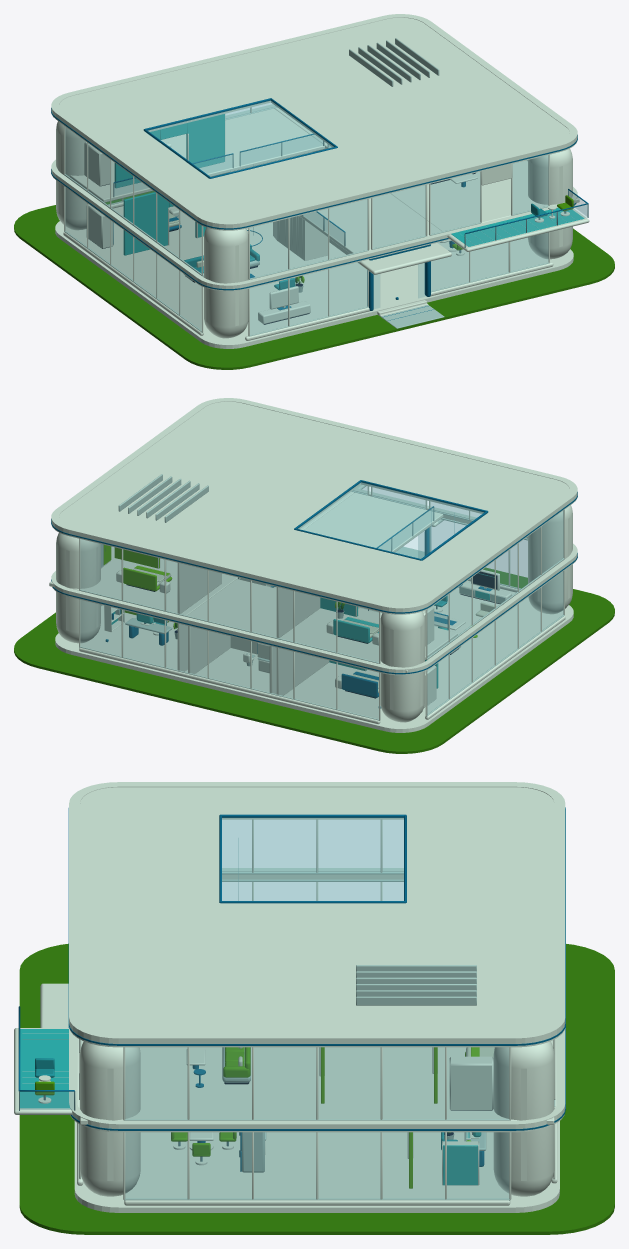
Rendered from AeroHouse.fbx.
3 views of the same model, one above another, from view 1: azimuth 30°, elevation 25°; view 2: azimuth 150°, elevation 25°; view 3: azimuth 270°, elevation 25° (orthographic). The views are drawn at different scales.
Parts seen in each view (by area): view 1: Aero_GroundFloor_Palette, Aero_RoofBack_Palette, Aero_RoofFront_Palette, Aero_Site_Palette, Aero_RoofRight_Palette, Aero_CornerShell_Palette, Aero_RoofRibbon_Palette, Aero_Skylight_Glass, Aero_WestU_Glass, Aero_FrontLeftU_Glass, Aero_WestG_Glass, Aero_UpperFloorRear_Palette (+29 smaller); view 2: Aero_RoofFront_Palette, Aero_RoofBack_Palette, Aero_GroundFloor_Palette, Aero_Site_Palette, Aero_RearU_Glass, Aero_RearG_Glass, Aero_RoofRight_Palette, Aero_CornerShell_Palette, Aero_RoofRibbon_Palette, Aero_Skylight_Glass, Aero_WestU_Glass, Aero_UpperFloorRear_Palette (+27 smaller); view 3: Aero_RoofFront_Palette, Aero_Site_Palette, Aero_RoofBack_Palette, Aero_EastU_Glass, Aero_EastG_Glass, Aero_GroundFloor_Palette, Aero_RoofRight_Palette, Aero_UpperFloorEast_Palette, Aero_CornerShell_Palette, Aero_Skylight_Glass, Aero_RoofRibbon_Palette, Aero_WestU_Glass (+21 smaller).
Part boxes in pixels (x1,y1,x2,y2): Aero_GroundFloor_Palette: (55, 206, 573, 348); Aero_RoofBack_Palette: (59, 17, 463, 140); Aero_RoofFront_Palette: (169, 100, 569, 220); Aero_Site_Palette: (14, 191, 614, 369); Aero_RoofRight_Palette: (271, 52, 529, 147); Aero_CornerShell_Palette: (56, 121, 572, 338); Aero_RoofRibbon_Palette: (51, 14, 577, 230); Aero_Skylight_Glass: (144, 100, 333, 176); Aero_WestU_Glass: (65, 127, 201, 273); Aero_FrontLeftU_Glass: (250, 199, 367, 277); Aero_WestG_Glass: (65, 187, 201, 329); Aero_UpperFloorRear_Palette: (70, 108, 324, 202); Aero_RoofFront_Palette: (168, 401, 569, 522); Aero_RoofBack_Palette: (59, 482, 462, 604); Aero_GroundFloor_Palette: (55, 581, 573, 732); Aero_Site_Palette: (14, 567, 614, 753); Aero_RearU_Glass: (80, 539, 378, 661); Aero_RearG_Glass: (80, 600, 378, 718); Aero_RoofRight_Palette: (102, 434, 360, 529); Aero_CornerShell_Palette: (56, 505, 572, 722); Aero_RoofRibbon_Palette: (51, 398, 577, 614); Aero_Skylight_Glass: (298, 482, 485, 558); Aero_WestU_Glass: (427, 511, 563, 657); Aero_UpperFloorRear_Palette: (187, 579, 457, 672); Aero_RoofFront_Palette: (80, 787, 220, 1033); Aero_Site_Palette: (19, 943, 614, 1234); Aero_RoofBack_Palette: (405, 787, 554, 1033); Aero_EastU_Glass: (125, 1047, 508, 1118); Aero_EastG_Glass: (125, 1132, 508, 1198); Aero_GroundFloor_Palette: (74, 1121, 559, 1212); Aero_RoofRight_Palette: (220, 903, 405, 1033); Aero_UpperFloorEast_Palette: (80, 1040, 554, 1124); Aero_CornerShell_Palette: (80, 1041, 554, 1196); Aero_Skylight_Glass: (222, 817, 403, 900); Aero_RoofRibbon_Palette: (69, 782, 565, 1047); Aero_WestU_Glass: (222, 820, 403, 871).
Size of the model in its own units: 124 by 37.65 by 109.
3 materials, 2 textured.
